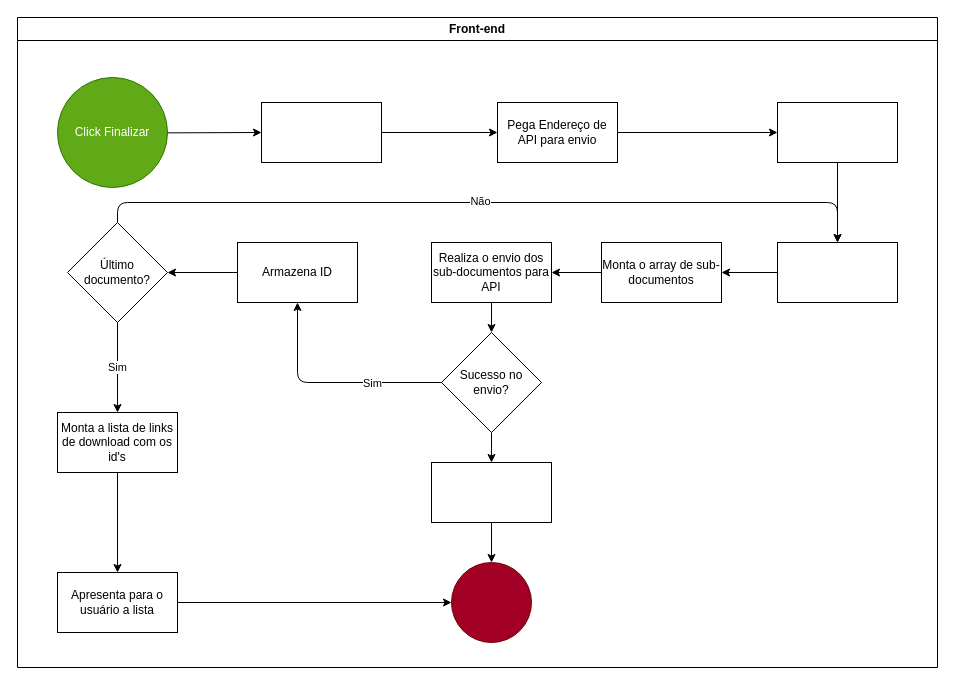
The diagram is 955 pixels wide and 685 high, and some of its shapes have lost their labels. The shapes that lost their labels are listed below. From the top down, each one's centre as x and y in pixels, then its label:
(321,132): Recupera os documentos do array gerado pelos componentes
(837,132): Monta a estrutura de envio (Array) de documentos
(837,272): Pega um documento do array
(491,492): Mostra mensagem de erro.
(491,602): Fim
